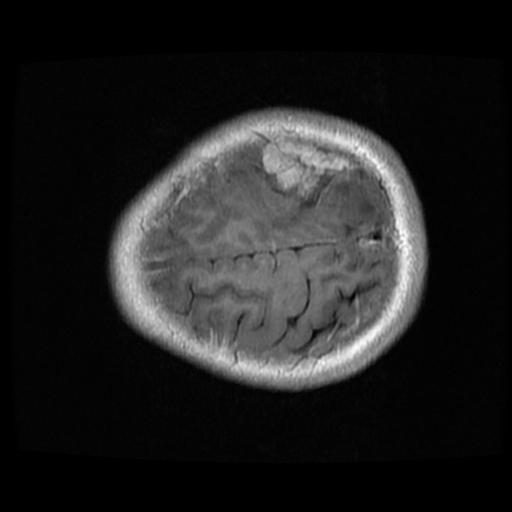meningioma: (261, 139, 347, 199)
